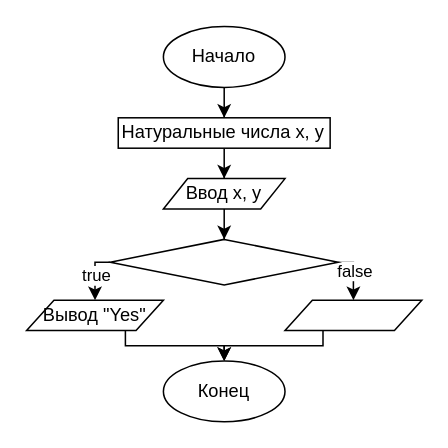
The diagram is 448 pixels wide and 448 high, and some of its shapes have lost their labels. Here are the shapes that lost their labels. From the top down, the box of each, then its label:
(109, 238, 338, 285): abs(x) + abs(y) < 5
(283, 299, 422, 331): Вывод "No"
